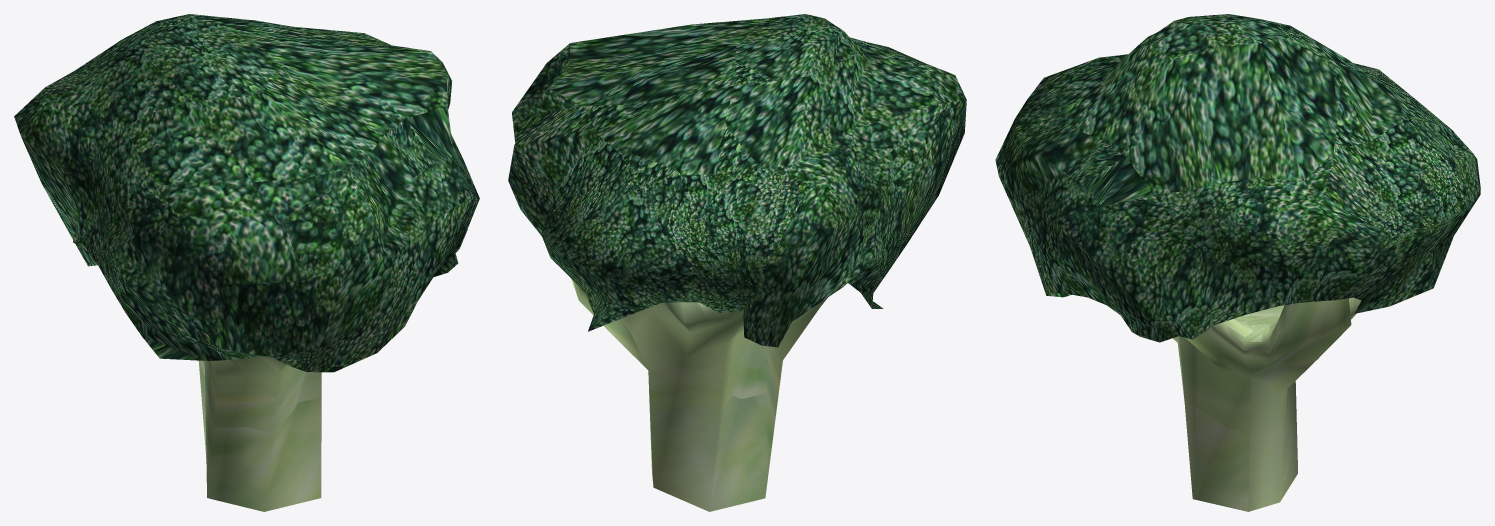
Rendered from brocorry.fbx.
The picture shows the model from 3 angles, left to right: view 1: azimuth 30°, elevation 25°; view 2: azimuth 150°, elevation 25°; view 3: azimuth 270°, elevation 25°; orthographic projection. The views are drawn at different scales.
Parts seen in each view (by area): view 1: Burokorinisei3; view 2: Burokorinisei3; view 3: Burokorinisei3.
Part boxes in pixels (x1,y1,x2,y2): Burokorinisei3: (14,14,479,511); Burokorinisei3: (508,14,966,511); Burokorinisei3: (995,14,1480,511).
Bounding box in the file's own units: 3.73 × 4.56 × 4.63.
